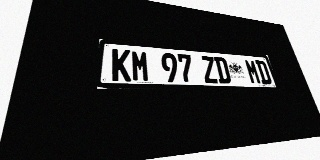7: (176, 54, 195, 83)
9: (161, 52, 180, 83)
D: (213, 57, 232, 84), (255, 60, 273, 84)
K: (112, 48, 131, 82)
M: (131, 50, 150, 82), (244, 59, 262, 84)
Z: (200, 56, 219, 83)
